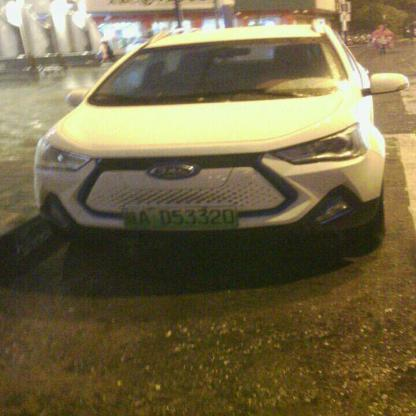lp: (122, 204, 236, 226)
